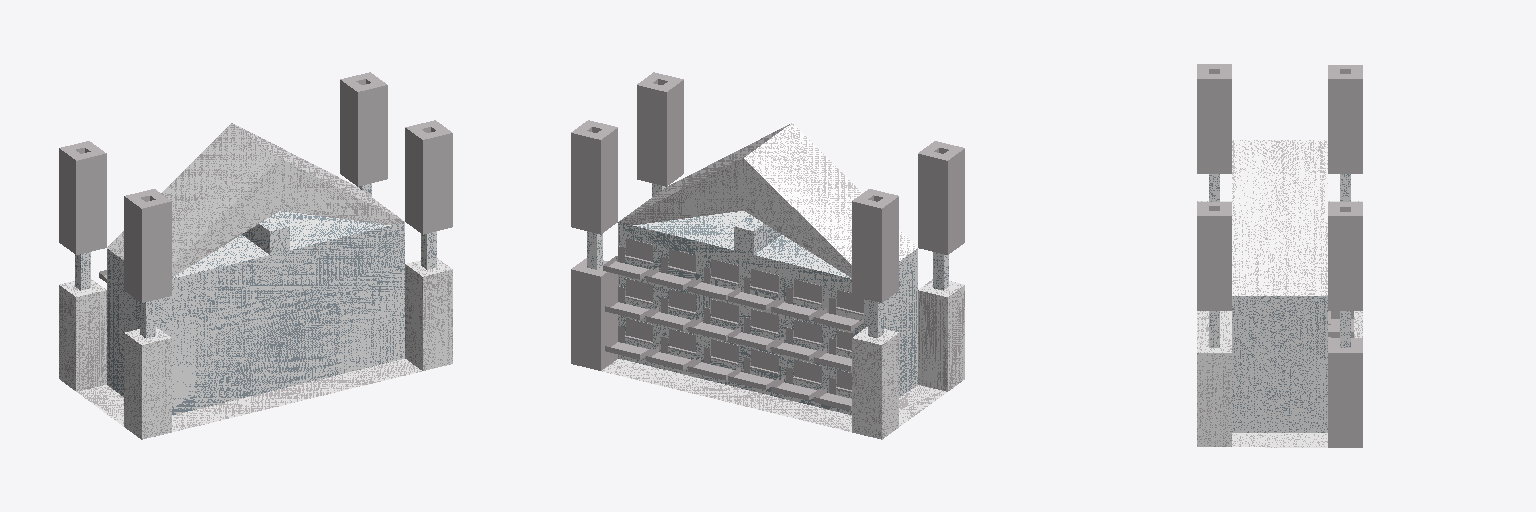
The model's file is sketchup_house.obj.
3 renders of one model, left to right at view 1: azimuth 30°, elevation 25°; view 2: azimuth 150°, elevation 25°; view 3: azimuth 270°, elevation 25°, orthographic.
Visible parts, largest first — view 1: Mesh65 Model, Mesh7 beam_with_hole4 Model, Mesh9 beam_with_hole5 Model, Mesh3 beam_with_hole2 Model, Mesh5 beam_with_hole3 Model; view 2: Mesh65 Model, Mesh7 beam_with_hole4 Model, Mesh9 beam_with_hole5 Model, Mesh3 beam_with_hole2 Model, Mesh5 beam_with_hole3 Model, Mesh1 beam_with_hole1 Model, Mesh48 Window13 Model, Mesh51 Window14 Model, Mesh54 Window15 Model, Mesh57 Window16 Model, Mesh27 Window6 Model, Mesh12 Window1 Model (+28 smaller); view 3: Mesh65 Model, Mesh5 beam_with_hole3 Model, Mesh3 beam_with_hole2 Model, Mesh7 beam_with_hole4 Model, Mesh9 beam_with_hole5 Model, Mesh1 beam_with_hole1 Model.
Boxes of the visible parts, box(x1,y1,x2,y2) form: Mesh65 Model: box(59, 123, 452, 439); Mesh7 beam_with_hole4 Model: box(405, 120, 452, 234); Mesh9 beam_with_hole5 Model: box(340, 72, 387, 186); Mesh3 beam_with_hole2 Model: box(59, 141, 106, 254); Mesh5 beam_with_hole3 Model: box(124, 189, 171, 302); Mesh65 Model: box(602, 123, 964, 439); Mesh7 beam_with_hole4 Model: box(637, 72, 683, 186); Mesh9 beam_with_hole5 Model: box(571, 120, 617, 234); Mesh3 beam_with_hole2 Model: box(852, 189, 898, 302); Mesh5 beam_with_hole3 Model: box(918, 141, 964, 254); Mesh1 beam_with_hole1 Model: box(571, 258, 617, 370); Mesh48 Window13 Model: box(771, 287, 821, 320); Mesh51 Window14 Model: box(771, 367, 821, 400); Mesh54 Window15 Model: box(771, 327, 821, 360); Mesh57 Window16 Model: box(814, 298, 863, 330); Mesh27 Window6 Model: box(603, 246, 652, 279); Mesh12 Window1 Model: box(646, 297, 695, 329); Mesh65 Model: box(1197, 140, 1362, 447); Mesh5 beam_with_hole3 Model: box(1197, 64, 1231, 173); Mesh3 beam_with_hole2 Model: box(1328, 65, 1362, 173); Mesh7 beam_with_hole4 Model: box(1197, 202, 1231, 310); Mesh9 beam_with_hole5 Model: box(1328, 202, 1362, 310); Mesh1 beam_with_hole1 Model: box(1328, 338, 1362, 447).
Bounding box in the file's own units: 1.24 × 0.88 × 0.5715.